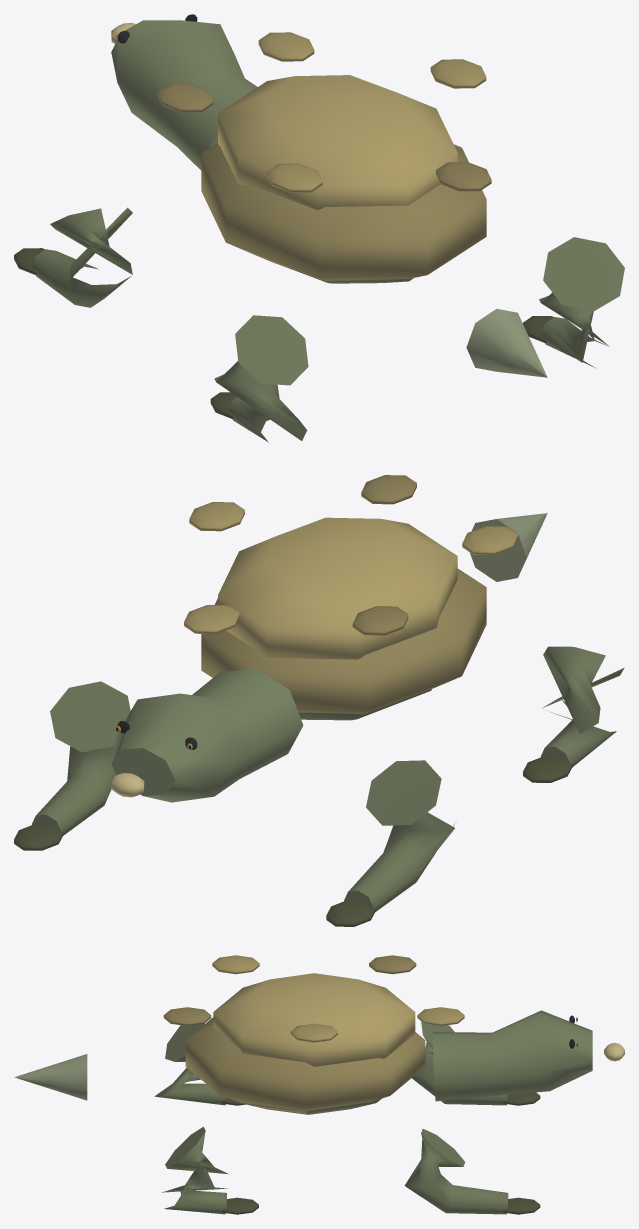
The model's file is turtle_mobile.glb.
3 renders of one model, top to bottom at view 1: azimuth 30°, elevation 25°; view 2: azimuth 150°, elevation 25°; view 3: azimuth 270°, elevation 25°, orthographic. The views are drawn at different scales.
Parts seen in each view (by area): view 1: ShellCrown, StoneShell, TurtleNeck, Leg_LH, Leg_RH, Leg_LF, ShortTail, ShellPlateDetail_03, ShellPlateDetail_04, ShellPlateDetail_00, ShellPlateDetail_02, ShellPlateDetail_01; view 2: ShellCrown, TurtleNeck, StoneShell, Leg_LF, Leg_RF, Leg_LH, ShortTail, ShellPlateDetail_03, ShellPlateDetail_01, ShellPlateDetail_02, ShellPlateDetail_00, ShellPlateDetail_04 (+5 smaller); view 3: ShellCrown, StoneShell, TurtleNeck, Leg_RF, Leg_RH, Leg_LH, ShortTail, Leg_LF, ShellPlateDetail_01, ShellPlateDetail_00, ShellPlateDetail_02, ShellPlateDetail_03 (+5 smaller).
Boxes of the visible parts, left/top/right/bottom form: ShellCrown: left=218, top=75, right=457, bottom=210; StoneShell: left=201, top=143, right=486, bottom=283; TurtleNeck: left=111, top=20, right=257, bottom=170; Leg_LH: left=214, top=315, right=308, bottom=442; Leg_RH: left=539, top=237, right=624, bottom=367; Leg_LF: left=31, top=207, right=132, bottom=307; ShortTail: left=466, top=308, right=547, bottom=377; ShellPlateDetail_03: left=157, top=83, right=213, bottom=112; ShellPlateDetail_04: left=258, top=32, right=314, bottom=61; ShellPlateDetail_00: left=430, top=59, right=486, bottom=88; ShellPlateDetail_02: left=267, top=163, right=322, bottom=192; ShellPlateDetail_01: left=436, top=162, right=491, bottom=191; ShellCrown: left=218, top=517, right=457, bottom=659; TurtleNeck: left=111, top=668, right=303, bottom=802; StoneShell: left=201, top=568, right=486, bottom=714; Leg_LF: left=344, top=760, right=455, bottom=911; Leg_RF: left=32, top=681, right=130, bottom=835; Leg_LH: left=540, top=646, right=624, bottom=767; ShortTail: left=470, top=513, right=547, bottom=581; ShellPlateDetail_03: left=352, top=606, right=408, bottom=635; ShellPlateDetail_01: left=361, top=475, right=416, bottom=504; ShellPlateDetail_02: left=462, top=526, right=517, bottom=555; ShellPlateDetail_00: left=189, top=502, right=244, bottom=531; ShellPlateDetail_04: left=184, top=605, right=239, bottom=633; ShellCrown: left=213, top=973, right=415, bottom=1066; StoneShell: left=185, top=1017, right=425, bottom=1113; TurtleNeck: left=432, top=1010, right=592, bottom=1101; Leg_RF: left=404, top=1129, right=508, bottom=1214; Leg_RH: left=162, top=1127, right=228, bottom=1214; Leg_LH: left=154, top=1023, right=226, bottom=1105; ShortTail: left=14, top=1054, right=87, bottom=1100; Leg_LF: left=412, top=1021, right=507, bottom=1105; ShellPlateDetail_01: left=163, top=1007, right=211, bottom=1025; ShellPlateDetail_00: left=290, top=1023, right=337, bottom=1042; ShellPlateDetail_02: left=212, top=955, right=259, bottom=974; ShellPlateDetail_03: left=369, top=955, right=416, bottom=974.
Size of the model in its own units: 2.09 by 1.25 by 4.
